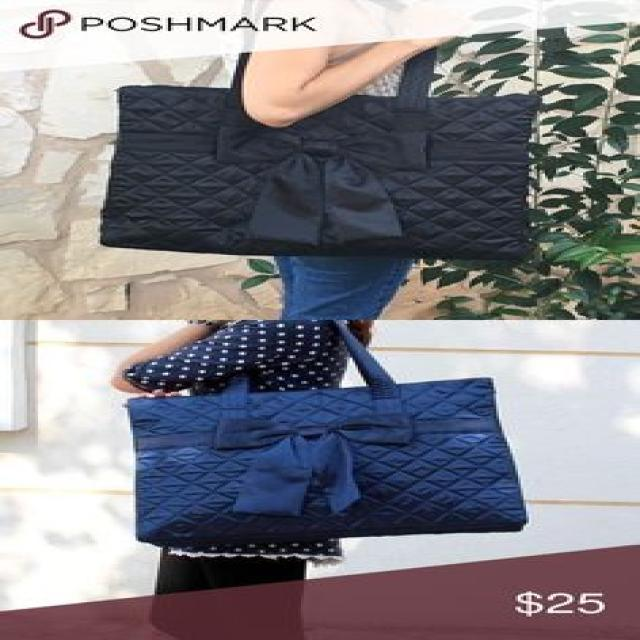Handbag: (94, 82, 578, 266), (119, 361, 535, 553)
